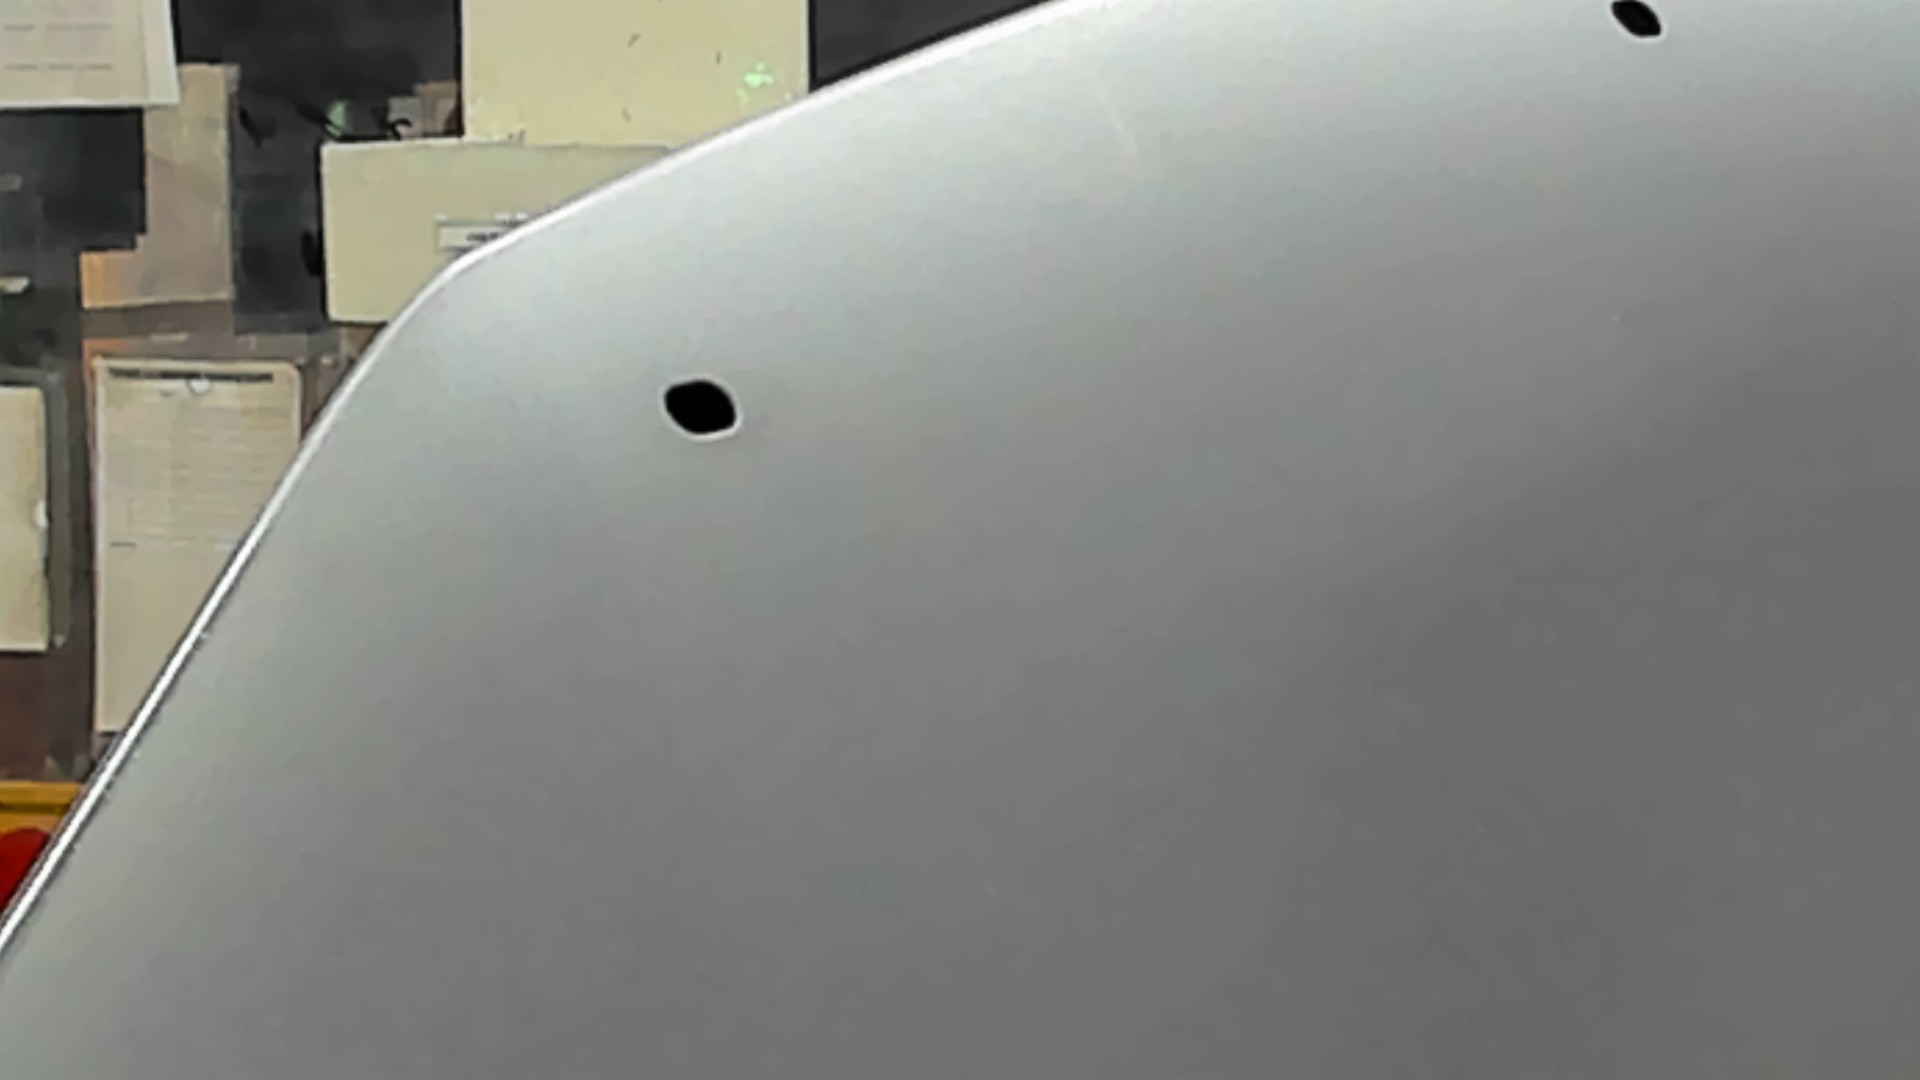chico: (659, 372, 746, 450), (1601, 1, 1671, 50)
